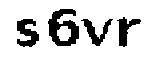6: (46, 6, 82, 50)
r: (116, 15, 143, 50)
s: (10, 17, 41, 51)
v: (82, 15, 112, 47)
